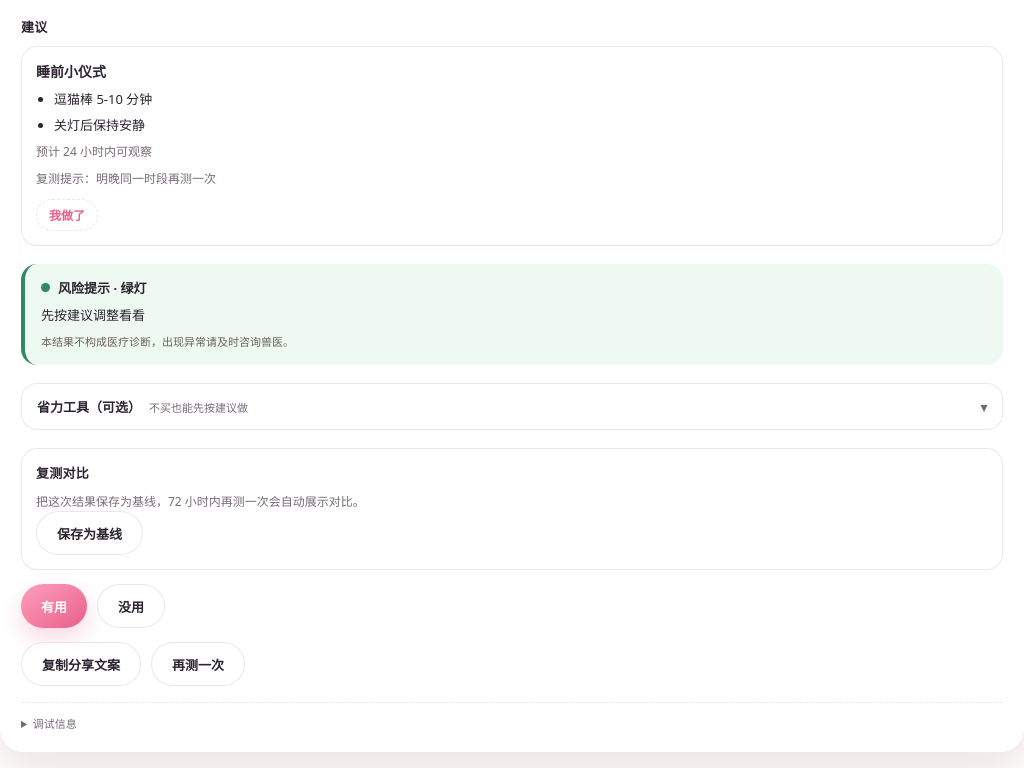
Test: ResultView › 反馈会写入后端并显示结果
The image size is (1024, 768).
(page scrolled)
Click the button "有用": x=54, y=606 [21,584,87,628]
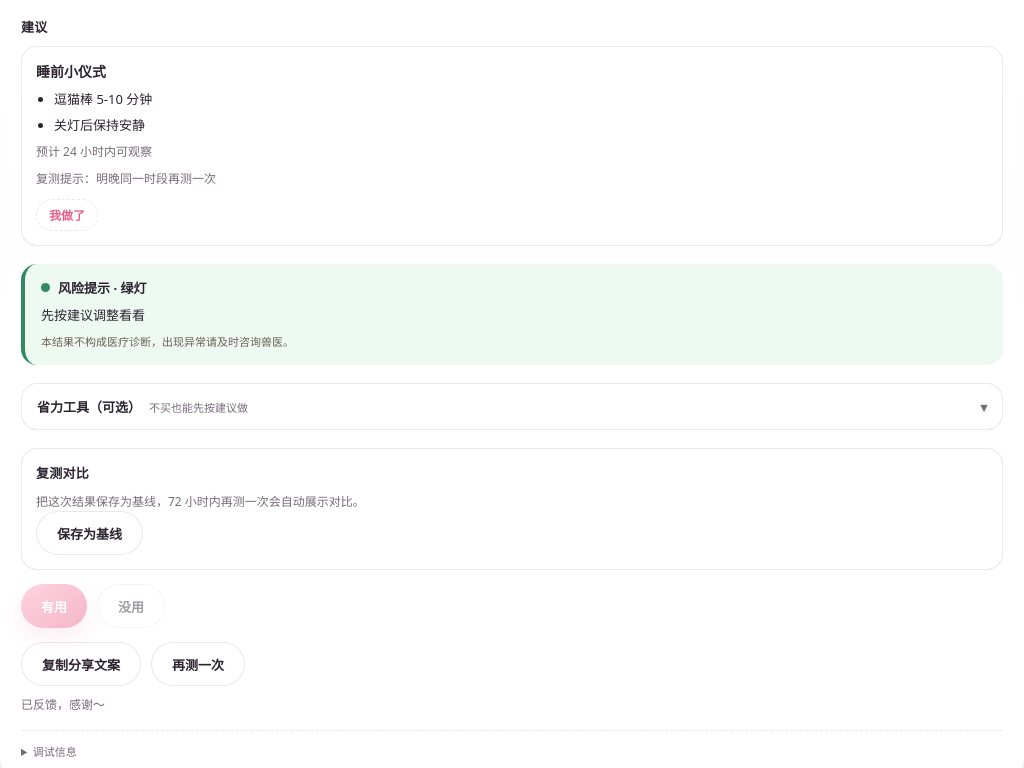
Expected: the text "已反馈，感谢～" is shown, [21,696,105,713]
